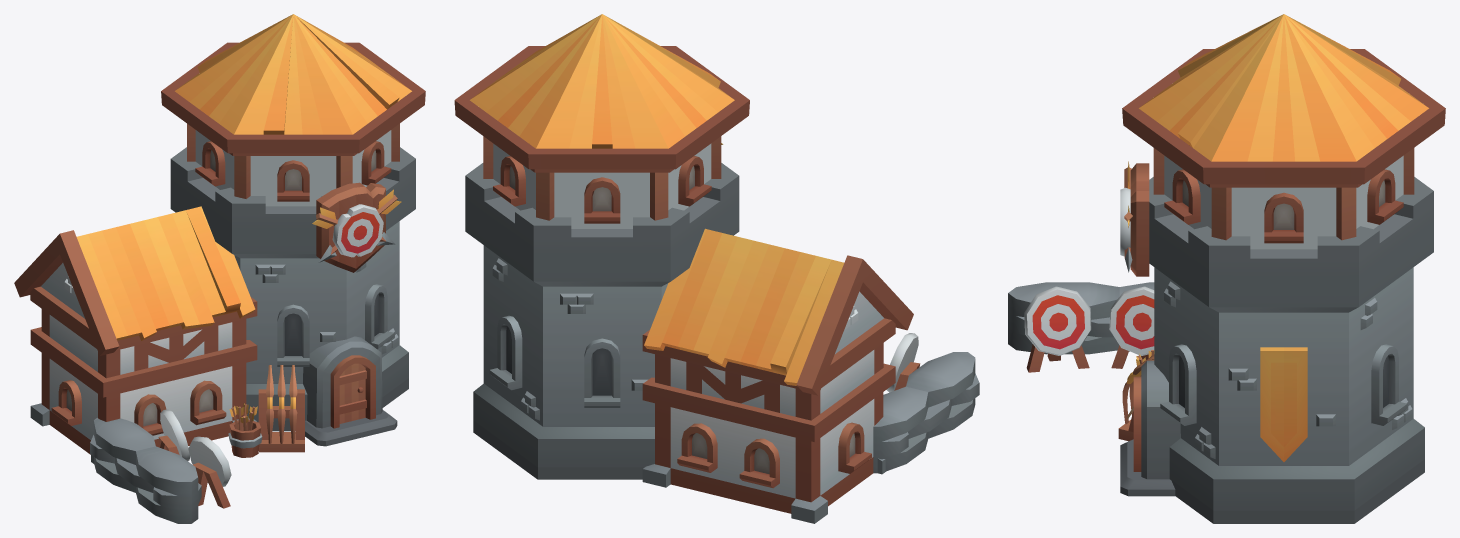
File: building_archeryrange_yellow.glb
3 renders of one model, left to right at view 1: azimuth 30°, elevation 25°; view 2: azimuth 150°, elevation 25°; view 3: azimuth 270°, elevation 25°, orthographic. The views are drawn at different scales.
Visible parts, largest first — view 1: building_archeryrange_yellow; view 2: building_archeryrange_yellow; view 3: building_archeryrange_yellow.
Part boxes in pixels (x1,y1,x2,y2): building_archeryrange_yellow: [14, 14, 425, 523]; building_archeryrange_yellow: [454, 14, 979, 523]; building_archeryrange_yellow: [1008, 14, 1445, 523].
Size of the model in its own units: 1.67 by 1.79 by 1.55.
1 material, 1 textured.
